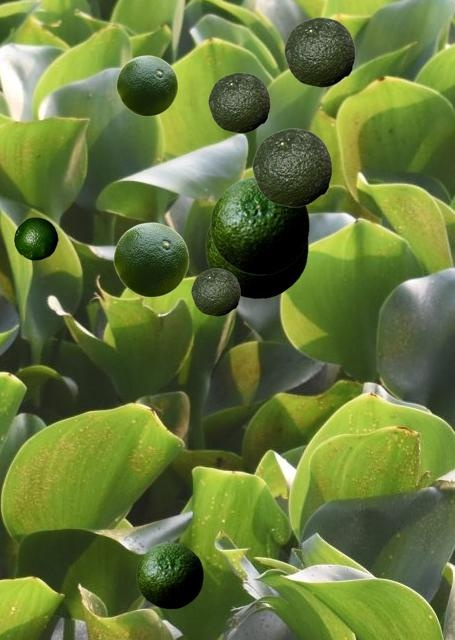calamansi: (210, 176, 308, 274), (205, 225, 307, 298), (252, 128, 331, 206), (113, 222, 188, 296), (284, 17, 354, 86), (136, 542, 202, 608), (116, 55, 177, 115), (208, 72, 269, 132), (191, 268, 239, 315), (14, 217, 57, 259)
